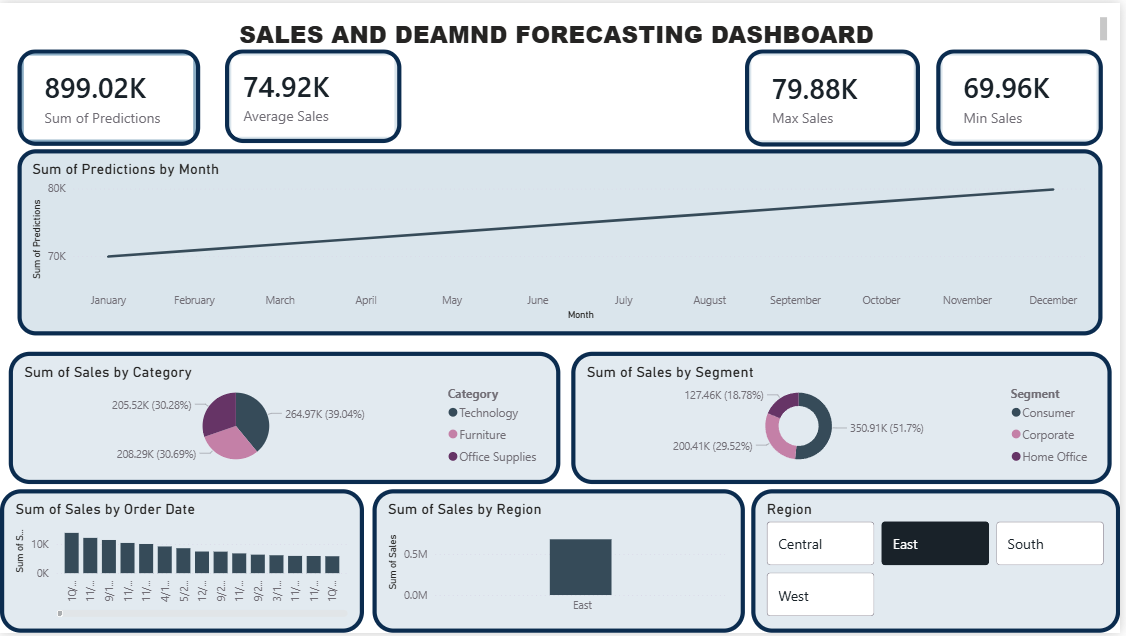

Layout of this report page (visuals, bound fields, positions):
{"tool":"powerbi","page":{"name":"Page 1","canvas":[1280,720],"ordinal":0},"visuals":[{"type":"lineChart","fields":{"Category":["forecast_results.Future Date.Variation.Date Hierarchy.Month","forecast_results.Future Date.Variation.Date Hierarchy.Day"],"Y":["Sum(forecast_results.Predictions)"]},"box":[20,167.1,1240,212.9],"z":0},{"type":"cardVisual","fields":{"Data":["Sum(forecast_results.Predictions)"]},"box":[20,52.9,208.6,110],"z":1000},{"type":"cardVisual","fields":{"Data":["forecast_results.Average Sales"]},"box":[257.1,52.9,201.4,107.1],"z":2000},{"type":"cardVisual","fields":{"Data":["forecast_results.Max Sales"]},"box":[851.4,52.9,200,111.4],"z":3000},{"type":"cardVisual","fields":{"Data":["forecast_results.Min Sales"]},"box":[1070,52.9,190,110],"z":4000},{"type":"pieChart","fields":{"Category":["Sample - Superstore.Category"],"Y":["Sum(Sample - Superstore.Sales)"]},"box":[10,398.8,630,151.2],"z":5000},{"type":"clusteredColumnChart","fields":{"Category":["Sample - Superstore.Region"],"Y":["Sum(Sample - Superstore.Sales)"]},"box":[425.7,555.7,425.7,164.3],"z":6000},{"type":"donutChart","fields":{"Category":["Sample - Superstore.Segment"],"Y":["Sum(Sample - Superstore.Sales)"]},"box":[652.5,398.8,617.5,151.2],"z":7000},{"type":"columnChart","fields":{"Y":["Sum(Sample - Superstore.Sales)"],"Category":["Sample - Superstore.Order Date"]},"box":[0,555.7,415.7,164.3],"z":8000},{"type":"advancedSlicerVisual","fields":{"Values":["Sample - Superstore.Region"]},"box":[858.6,555.7,421.4,164.3],"z":9000},{"type":"textbox","box":[10,11.4,1260,41.4],"z":10000}]}

Visuals, with their boxes in screenshot pixels (x1, y1, x2, y2), scaled from the page's 1280x720 canvas onto the 1126x636 screenshot:
lineChart - forecast_results.Future Date.Variation.Date Hierarchy.Month x forecast_results.Future Date.Variation.Date Hierarchy.Day: [left=18, top=148, right=1108, bottom=336]
cardVisual - Sum(forecast_results.Predictions): [left=18, top=47, right=201, bottom=144]
cardVisual - forecast_results.Average Sales: [left=226, top=47, right=403, bottom=141]
cardVisual - forecast_results.Max Sales: [left=749, top=47, right=925, bottom=145]
cardVisual - forecast_results.Min Sales: [left=941, top=47, right=1108, bottom=144]
pieChart - Sample - Superstore.Category x Sum(Sample - Superstore.Sales): [left=9, top=352, right=563, bottom=486]
clusteredColumnChart - Sample - Superstore.Region x Sum(Sample - Superstore.Sales): [left=374, top=491, right=749, bottom=635]
donutChart - Sample - Superstore.Segment x Sum(Sample - Superstore.Sales): [left=574, top=352, right=1117, bottom=486]
columnChart - Sum(Sample - Superstore.Sales) x Sample - Superstore.Order Date: [left=0, top=491, right=366, bottom=635]
advancedSlicerVisual - Sample - Superstore.Region: [left=755, top=491, right=1125, bottom=635]
textbox: [left=9, top=10, right=1117, bottom=47]
